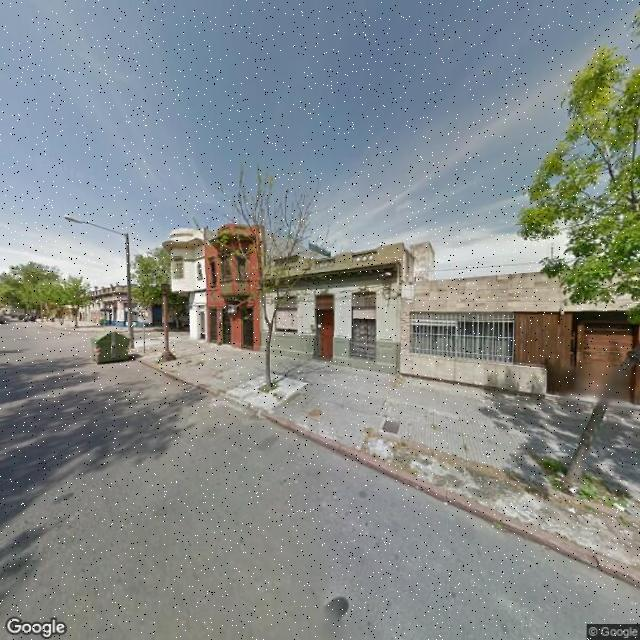garbage container: (82, 326, 136, 372)
